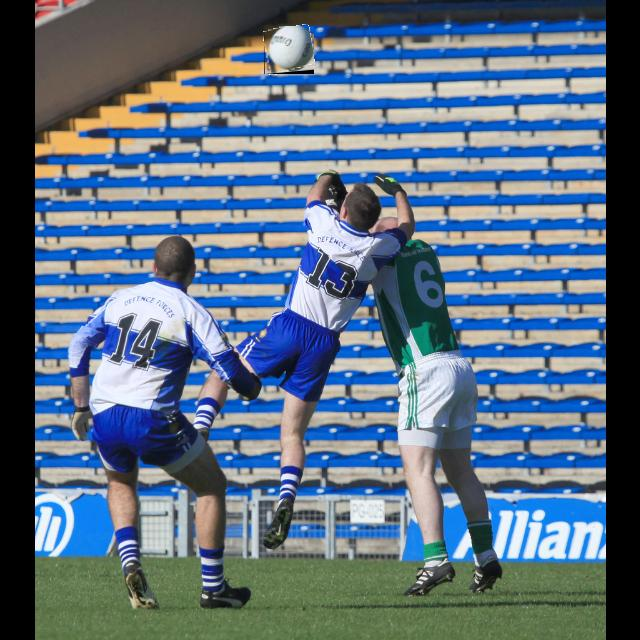Football: (264, 26, 314, 74)
